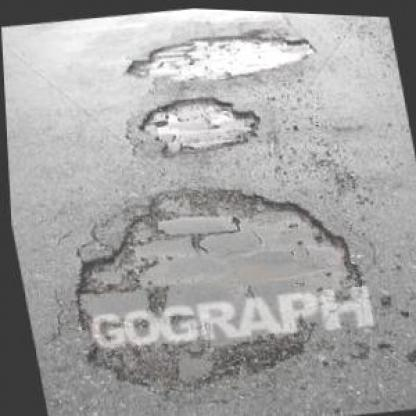pothole: (40, 152, 382, 410), (115, 16, 319, 88), (129, 83, 266, 162)
